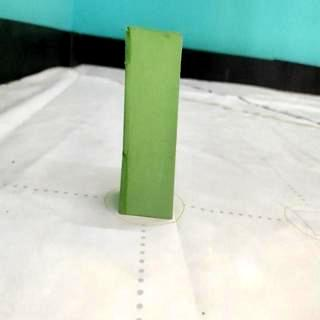greenbox: (118, 23, 186, 220)
